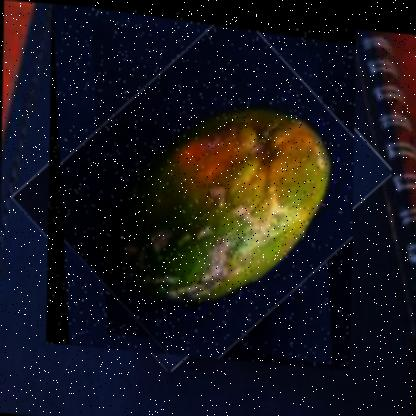orange_rotten: (45, 3, 357, 367)
